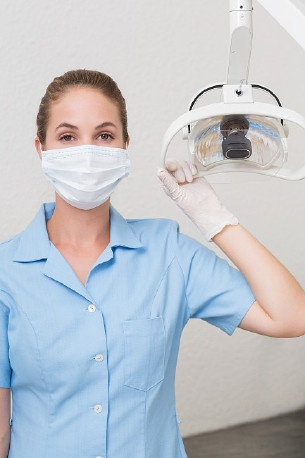Mask: (39, 114, 137, 212)
